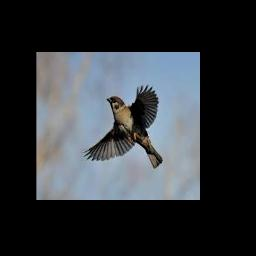Sparrow: (82, 84, 162, 169)
